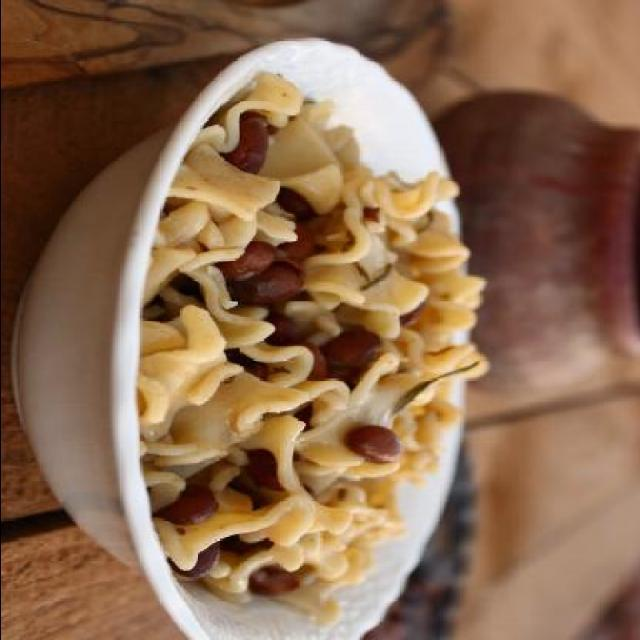Oil pasta: (10, 56, 504, 639)
